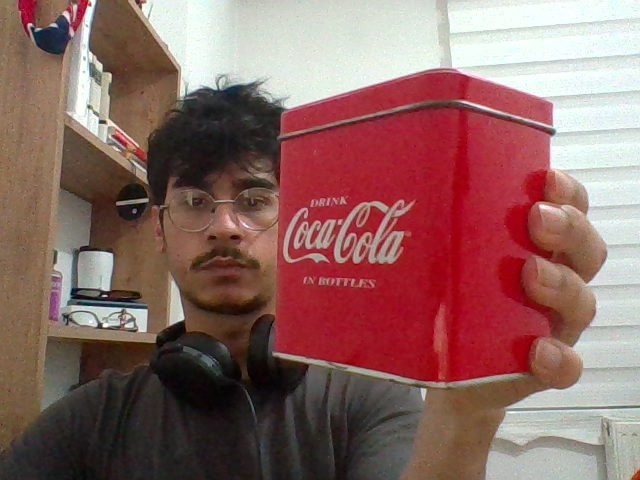CocaColaBox: (275, 103, 554, 382)
